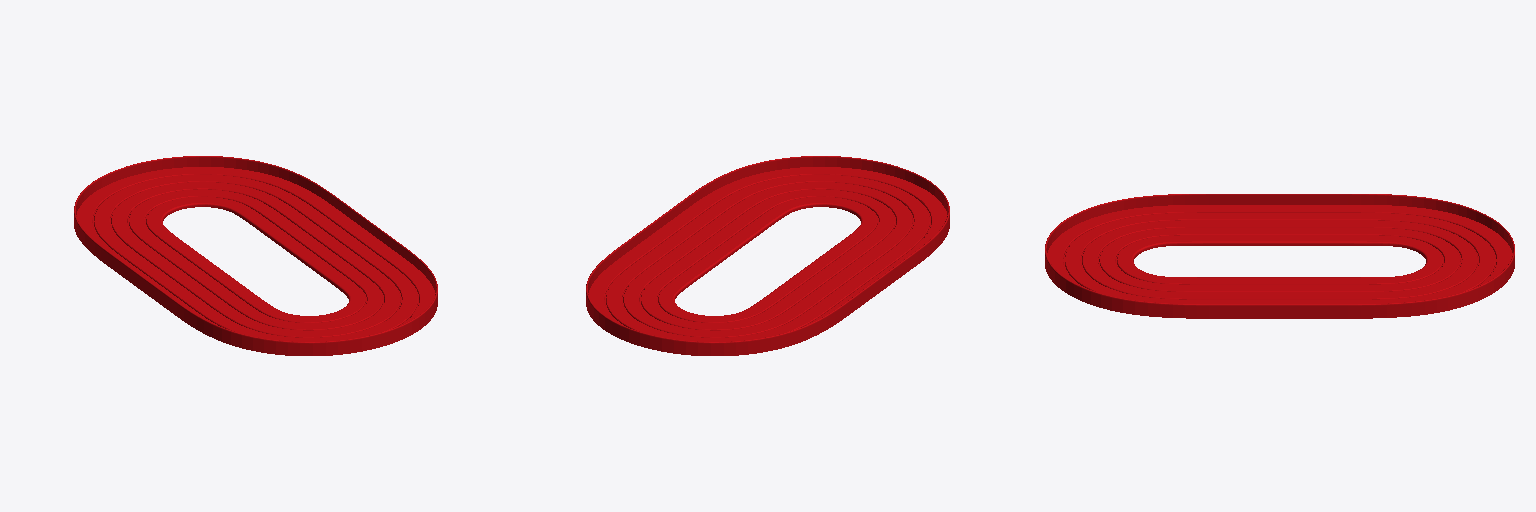
The model's file is track2.obj.
3 views of the same model, side by side, from view 1: azimuth 30°, elevation 25°; view 2: azimuth 150°, elevation 25°; view 3: azimuth 270°, elevation 25° (orthographic).
Parts seen in each view (by area): view 1: 10605_Slot_Car_Race_Track_v1_L3; view 2: 10605_Slot_Car_Race_Track_v1_L3; view 3: 10605_Slot_Car_Race_Track_v1_L3.
Boxes of the visible parts, x1=… form: 10605_Slot_Car_Race_Track_v1_L3: x1=74, y1=156, x2=437, y2=355; 10605_Slot_Car_Race_Track_v1_L3: x1=586, y1=156, x2=949, y2=355; 10605_Slot_Car_Race_Track_v1_L3: x1=1045, y1=194, x2=1514, y2=318.
Bounding box in the file's own units: 34 × 1.99 × 60.66.